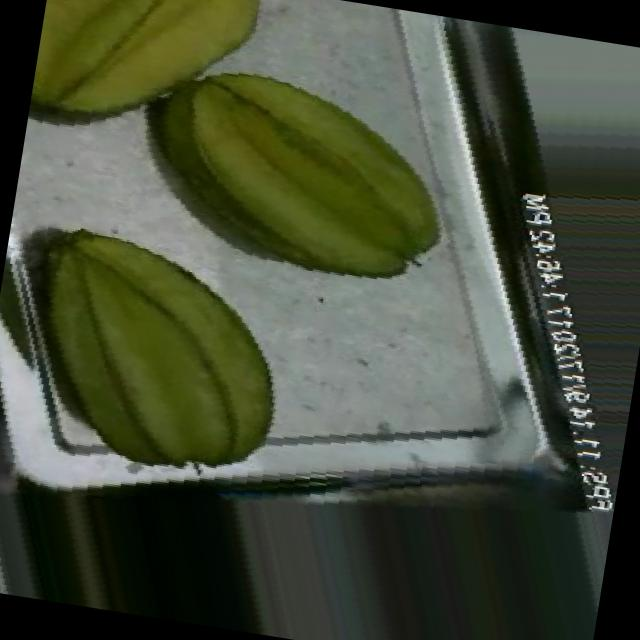fruit: (111, 0, 492, 342), (0, 181, 332, 511), (26, 0, 299, 168)
